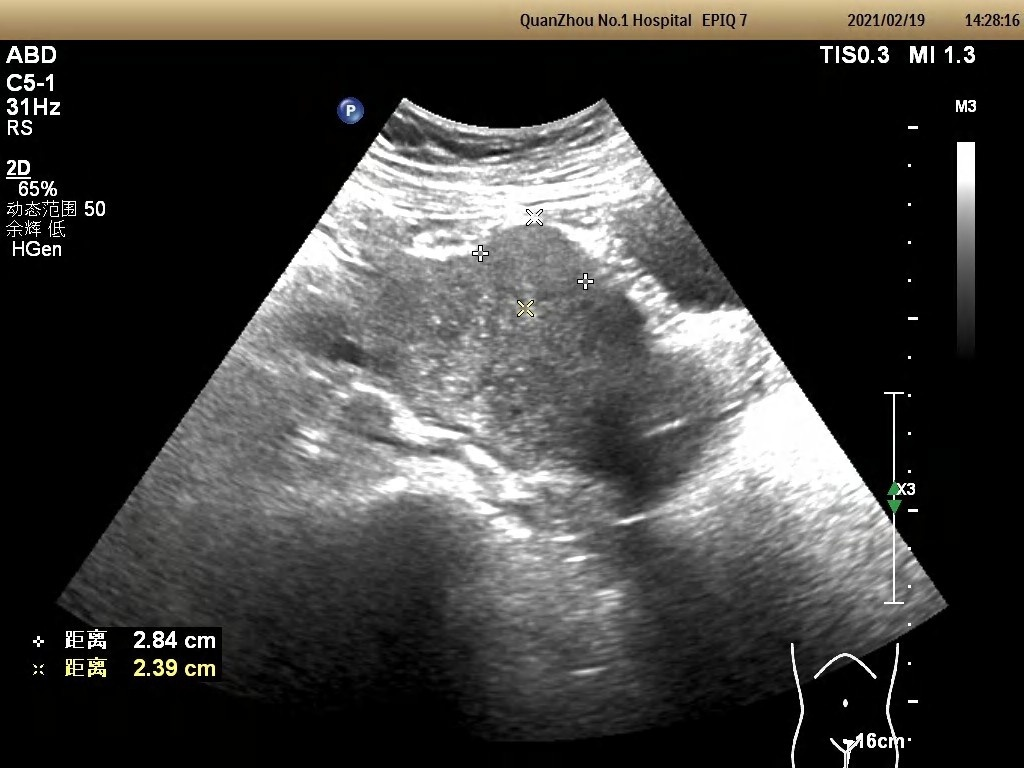肌瘤: (478, 216, 588, 305)
